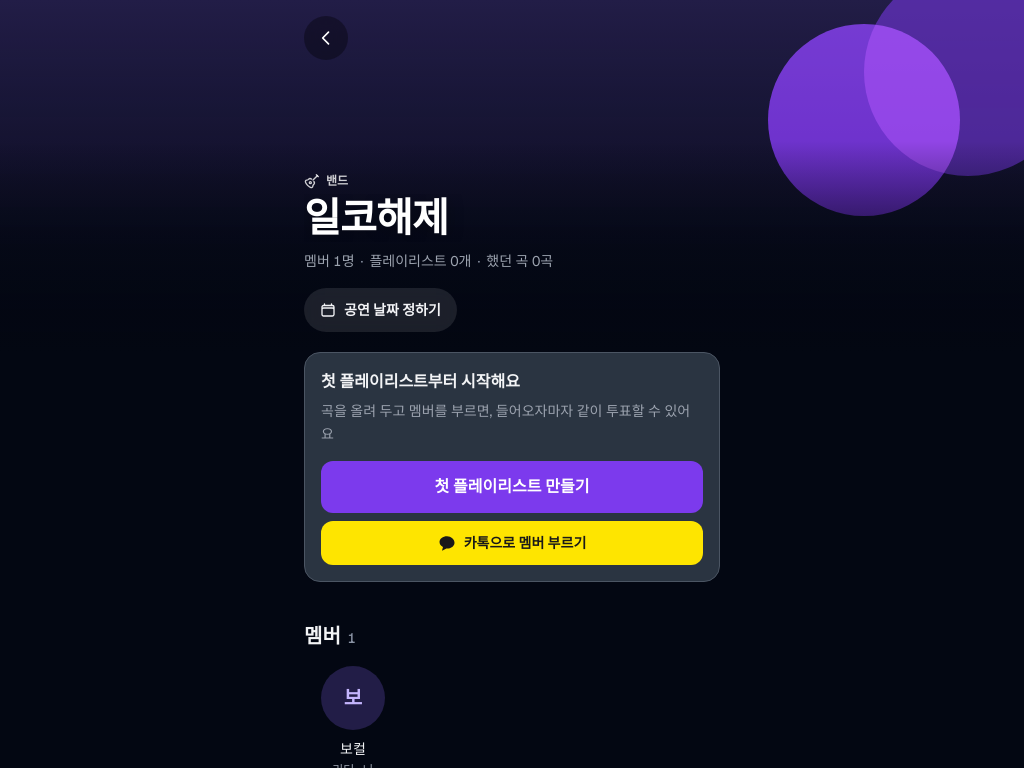
Scenario: BandHomeClient start area for a new empty band (DR1, DR16) › gathers the first steps into one area and hides the other ways in
Expected: the button "멤버 초대" is not shown
Click the button "카톡으로 멤버 부르기" at (512, 543), box left=321, top=521, right=703, bottom=565
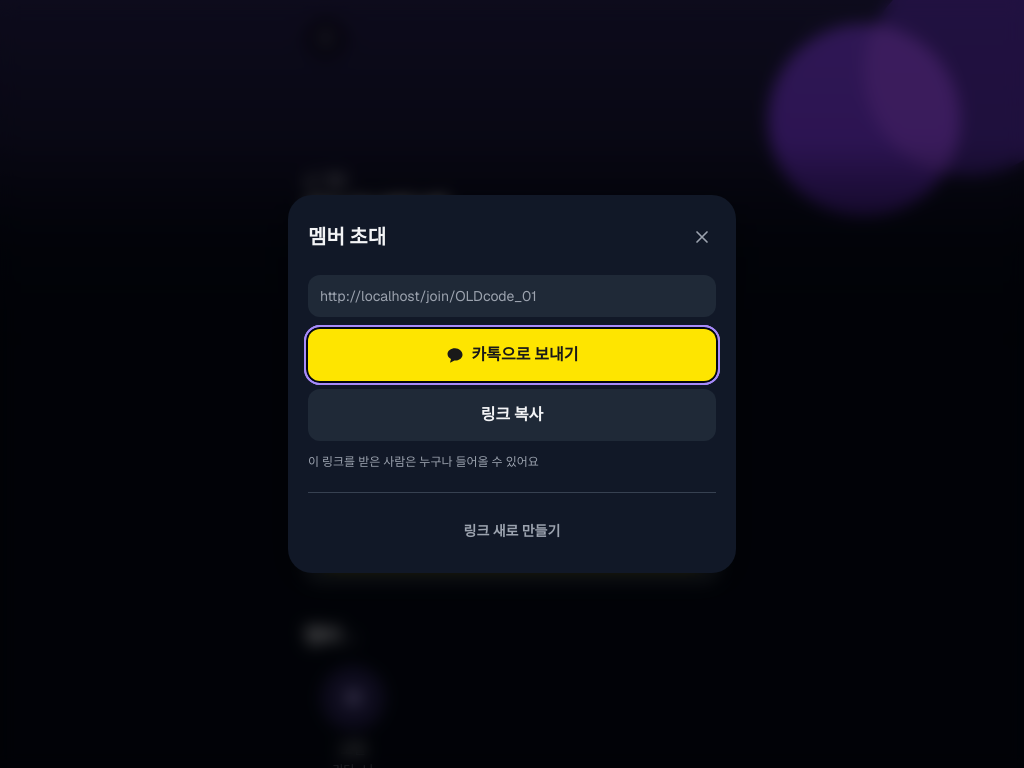
Expected: the dialog "멤버 초대" is shown
